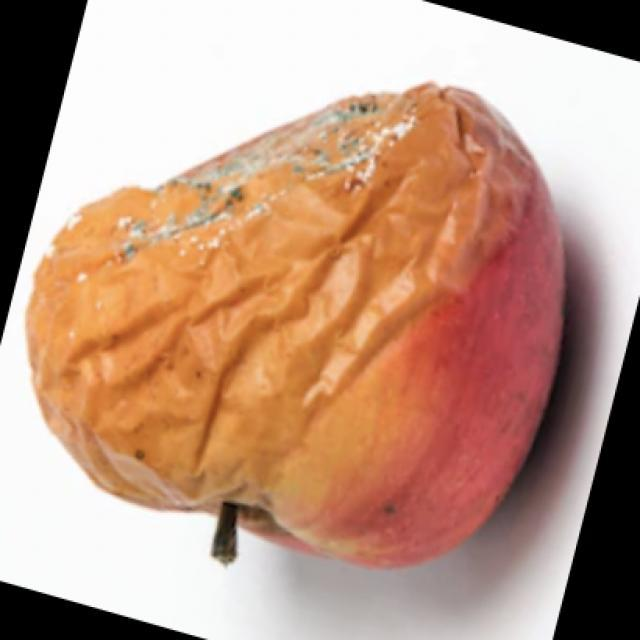Rotten: (59, 69, 534, 558)
